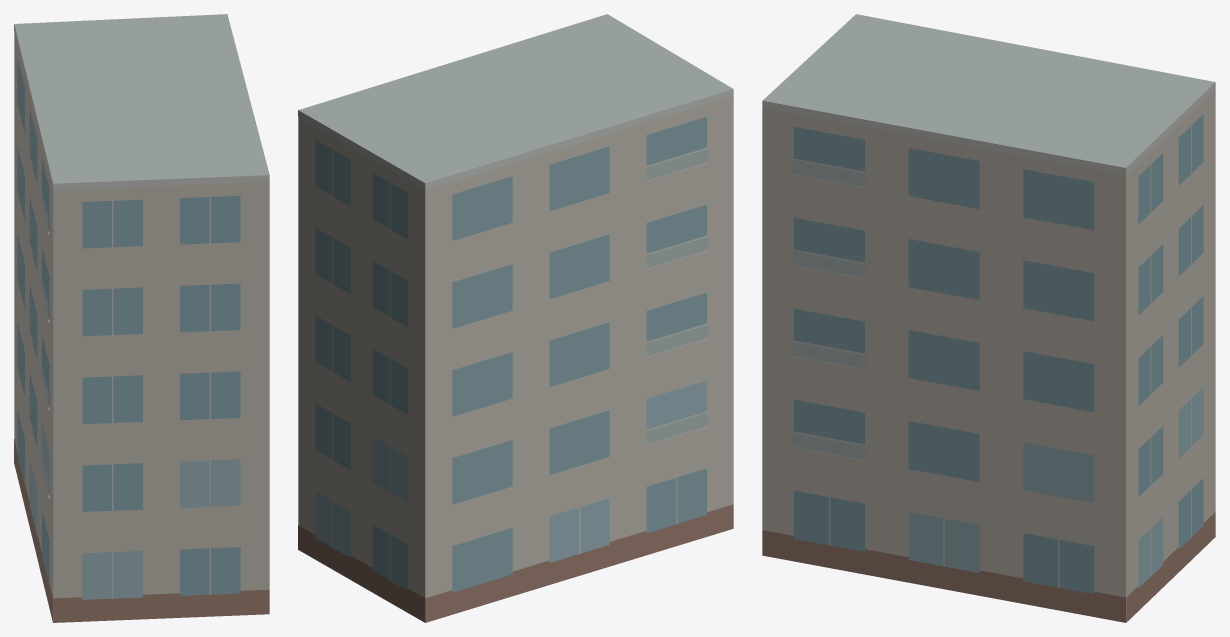
The model's file is survey-upis-32532343.glb.
3 views of the same model, side by side, from view 1: azimuth 30°, elevation 25°; view 2: azimuth 150°, elevation 25°; view 3: azimuth 270°, elevation 25° (orthographic). The views are drawn at different scales.
Visible parts, largest first — view 1: survey-upis-32532343.tmp; view 2: survey-upis-32532343.tmp; view 3: survey-upis-32532343.tmp.
Part boxes in pixels (x1=…): survey-upis-32532343.tmp: x1=14, y1=14, x2=269, y2=622; survey-upis-32532343.tmp: x1=298, y1=14, x2=733, y2=622; survey-upis-32532343.tmp: x1=762, y1=14, x2=1215, y2=622.
Size of the model in its own units: 11.7 by 16.1 by 14.55.
